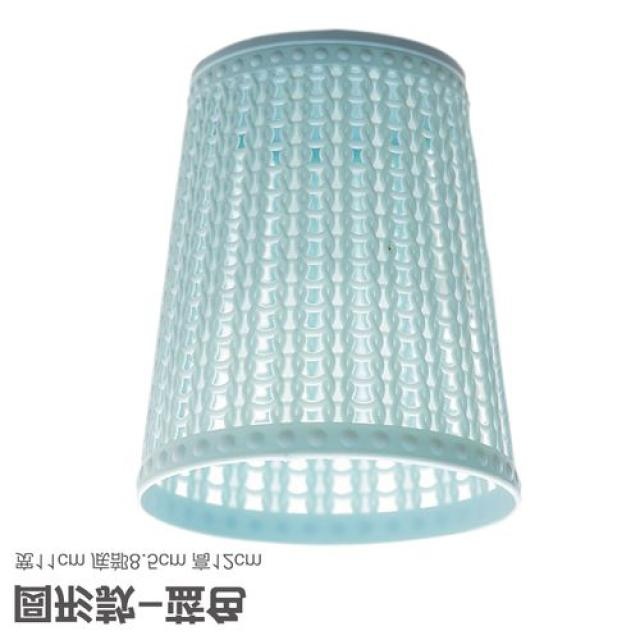dustbin: (133, 26, 528, 552)
